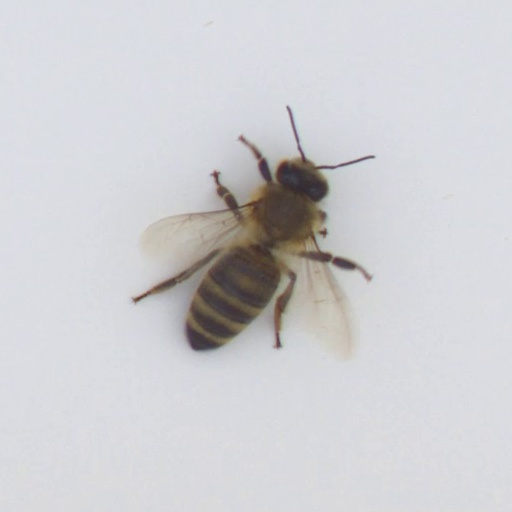Bee: (170, 141, 346, 363)
Thorax: (249, 183, 319, 246)
